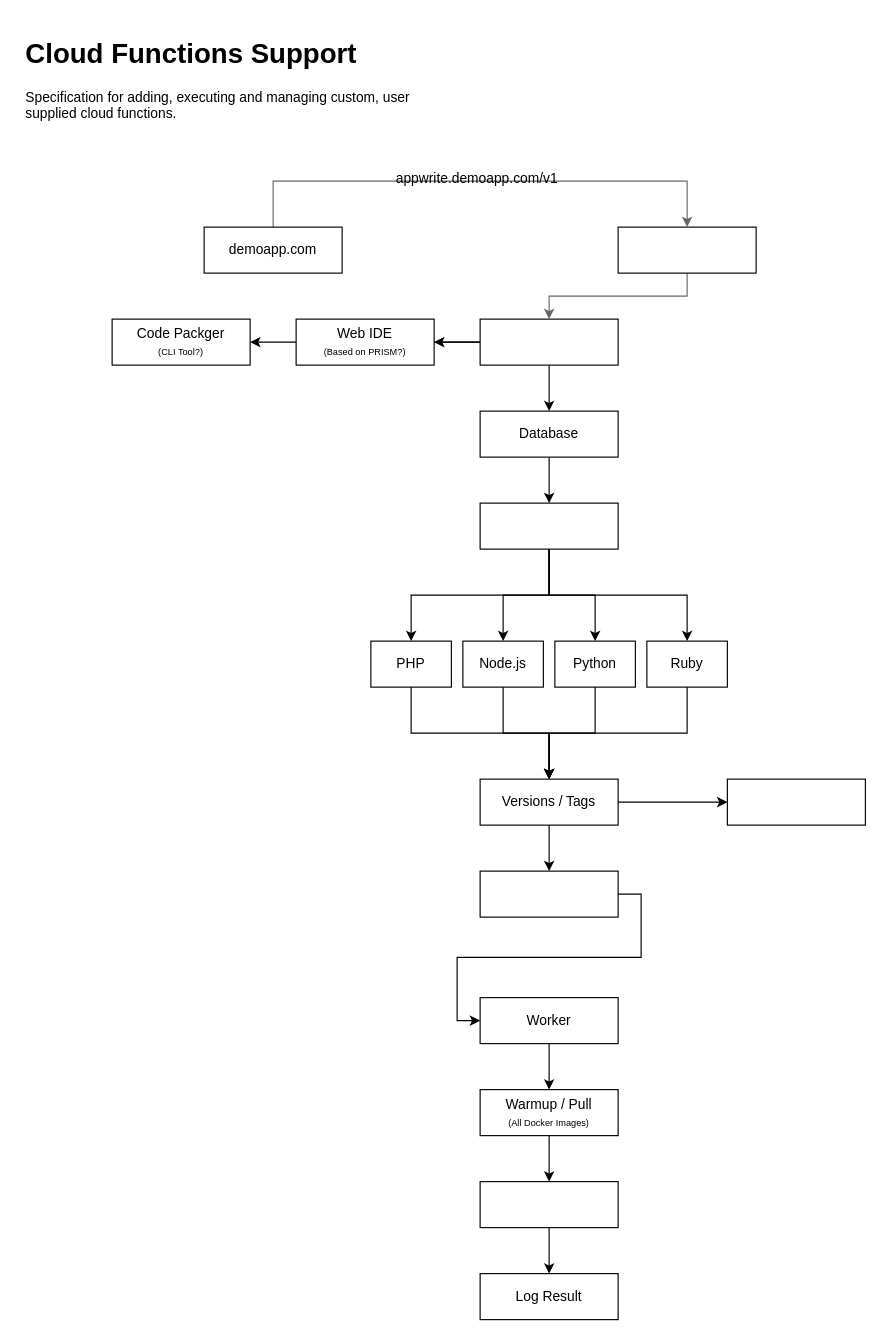
The diagram is 886 pixels wide and 1340 high, and some of its shapes have lost their labels. Here are the shapes that lost their labels. From the top down, the box of each, then its label:
(617, 226, 756, 273): appwrite
(479, 318, 618, 365): Console
(479, 502, 618, 549): Functions
(726, 778, 865, 825): Encrypted Code (Storage)
(479, 870, 618, 917): Execution
(479, 1180, 618, 1228): Execute Code (Limit Execution Time)
